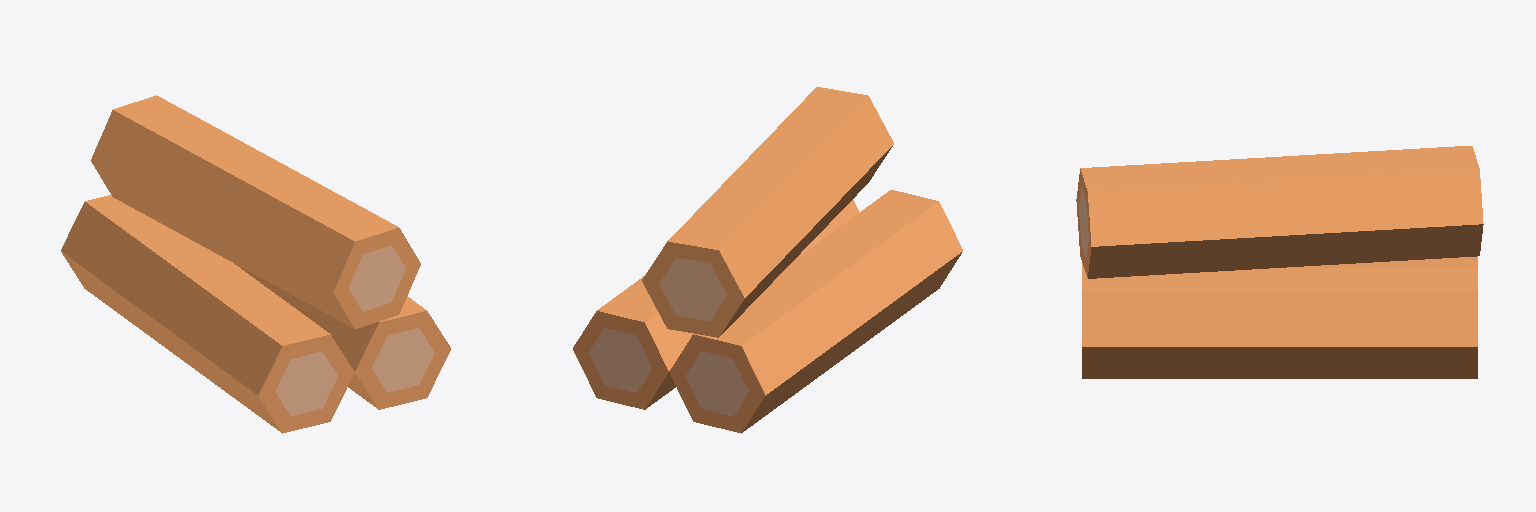
Rendered from logs_stack.obj.
3 renders of one model, left to right at view 1: azimuth 30°, elevation 25°; view 2: azimuth 150°, elevation 25°; view 3: azimuth 270°, elevation 25°, orthographic.
Visible parts, largest first — view 1: logs_stack; view 2: logs_stack; view 3: logs_stack.
Boxes of the visible parts, x1,y1,x2,y2 form: logs_stack: [61, 95, 450, 433]; logs_stack: [573, 87, 962, 433]; logs_stack: [1076, 146, 1483, 378].
Size of the model in its own units: 4 by 3.46 by 7.31.